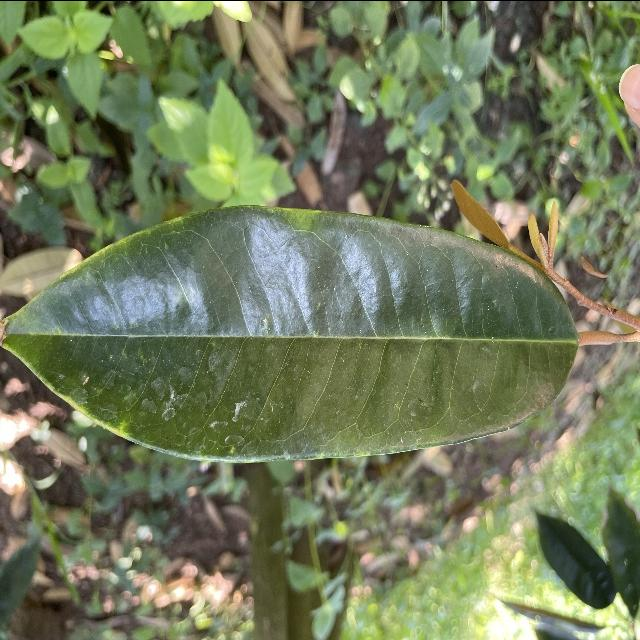No Disease: (0, 195, 591, 478)
